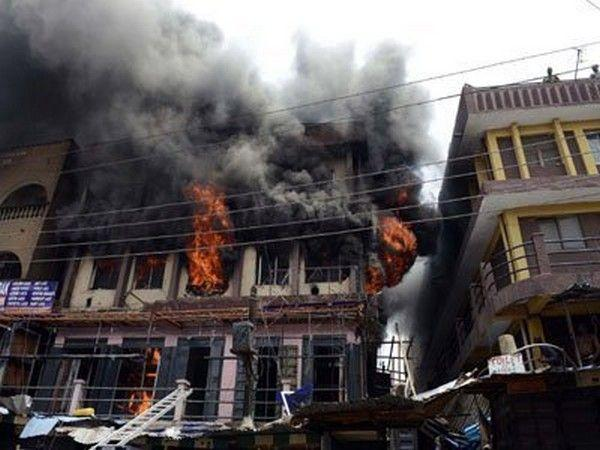Fire: (188, 182, 241, 304), (360, 209, 428, 296), (134, 345, 166, 429)
